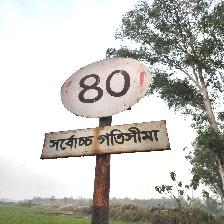Speed-limit: (43, 55, 166, 159)
